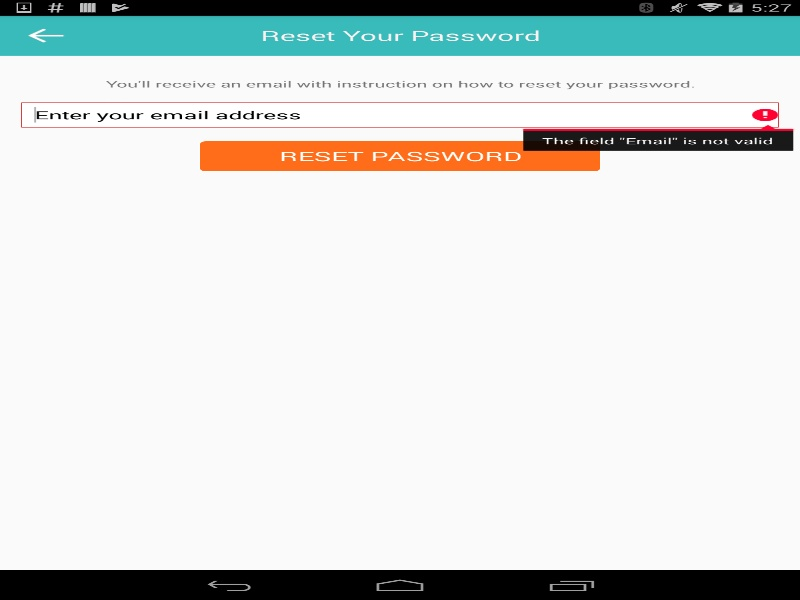Button: (198, 140, 601, 171), (21, 24, 68, 46)
Input: (21, 102, 778, 127)
